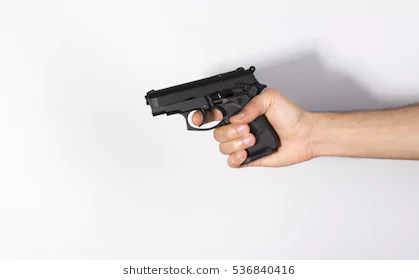pistol: (137, 57, 341, 183)
